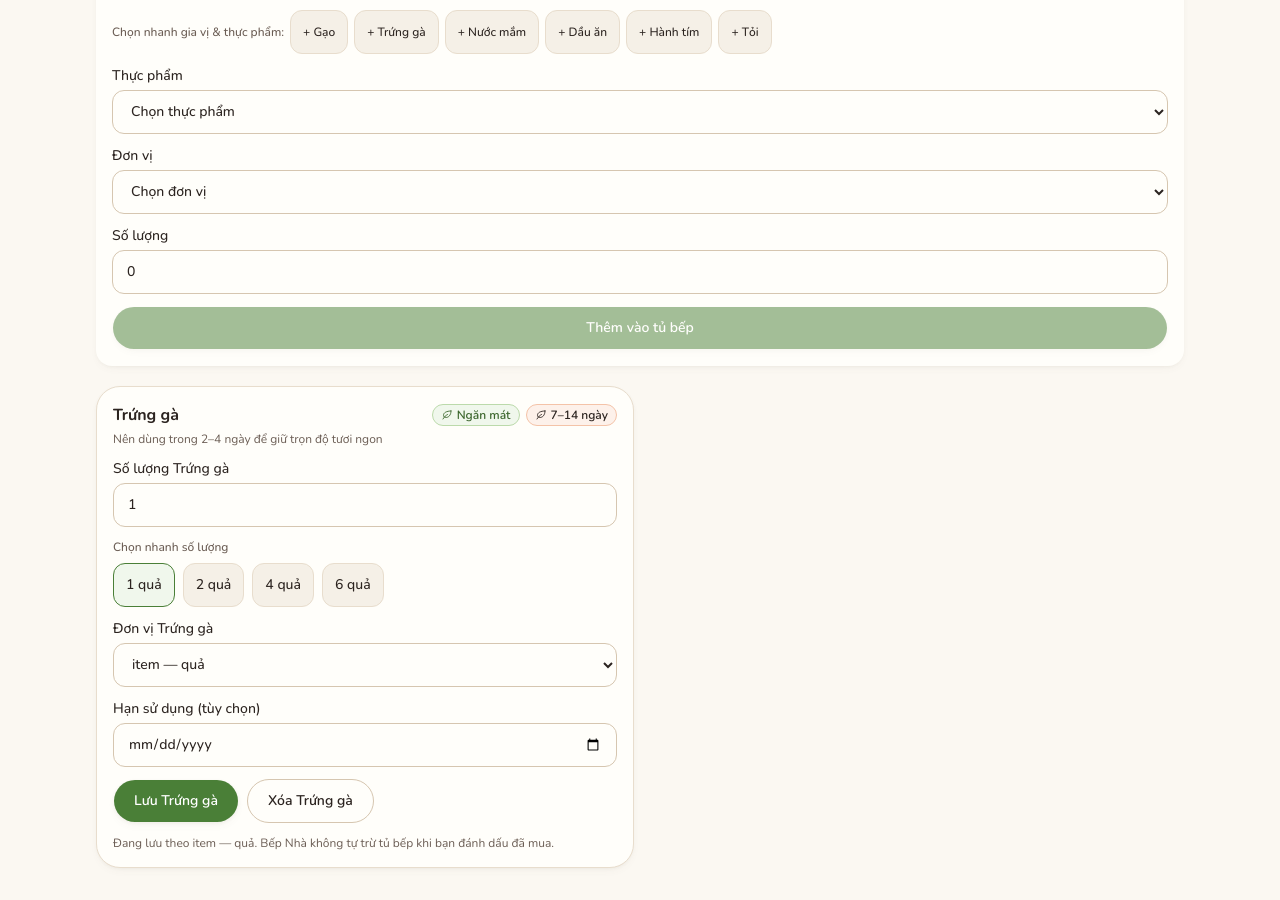
it: PantryPage › offers count quantities in the existing item editor without saving automatically
(page scrolled)
What coordinates should you click on to do the following:
click the button "4 quả"
I would click on:
 (283, 584)
Its box is [252,562,314,606].
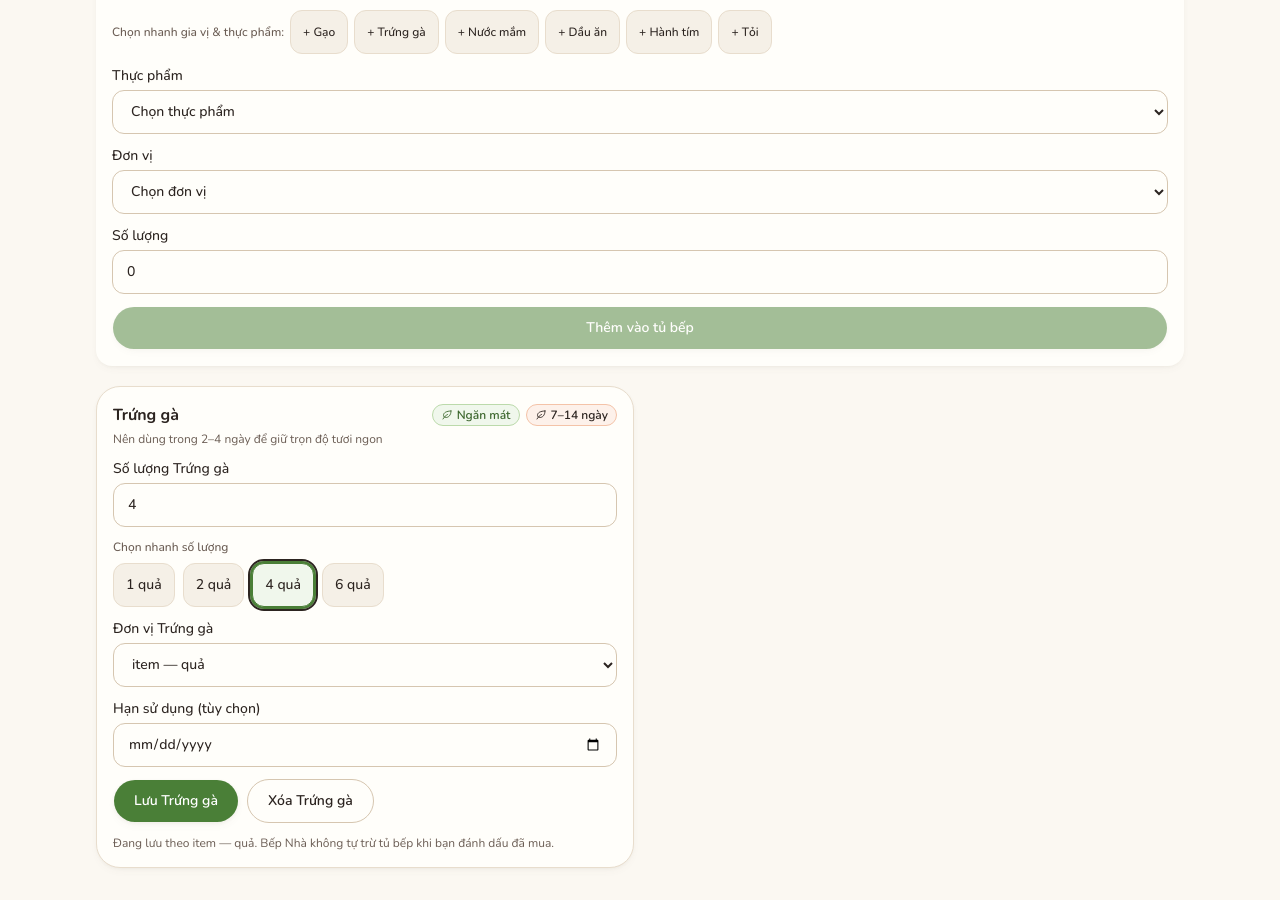
Expected: the dropdown labelled "Đơn vị Trứng gà" shows "item — quả", [113,642,617,686]
Now the number field labelled "Số lượng Trứng gà" holds "4", box [113,482,617,526]
